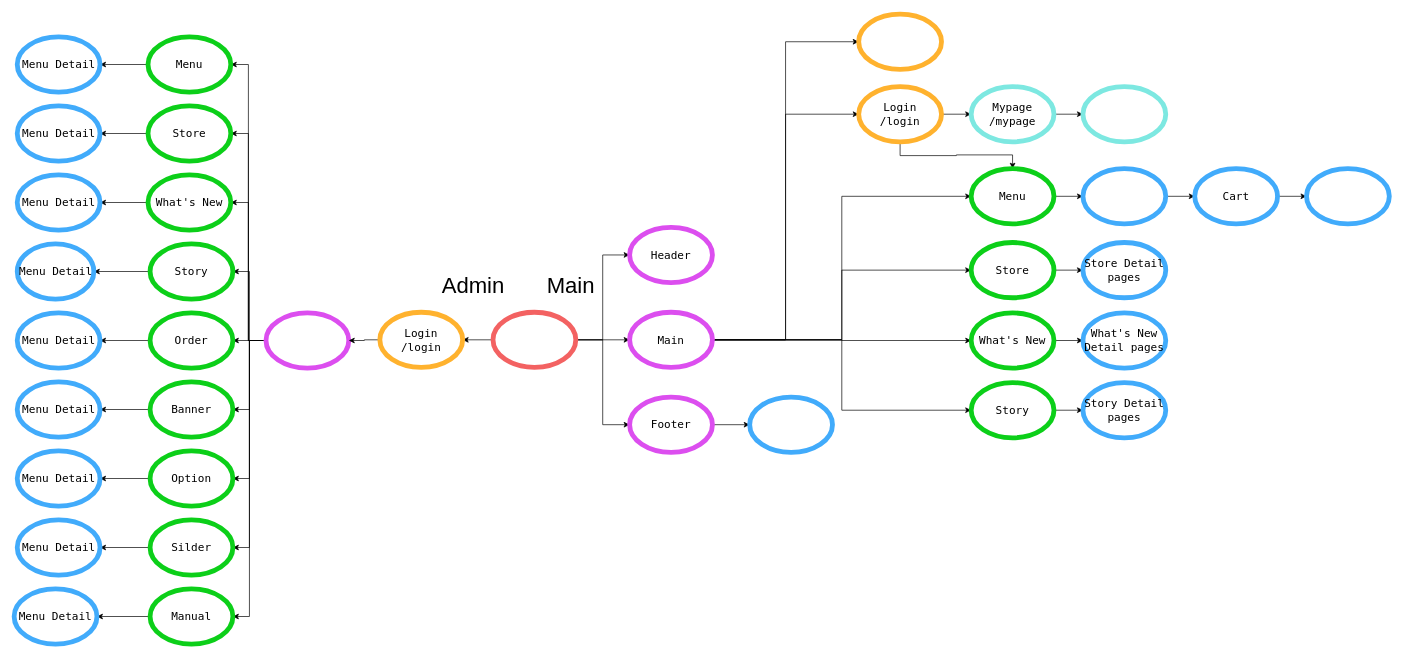
This 1403x658 diagram has some shape labels left out. The box of each missing label's shape, as (x1, y1, x2, y2) in pixels:
Admin Main: (263, 310, 351, 370)
app.js: (490, 309, 578, 369)
FooterLink: (747, 394, 835, 454)
Join /join: (856, 11, 944, 71)
Menu Detail pages: (1080, 166, 1168, 226)
Order Detail: (1080, 84, 1168, 144)
payment: (1304, 166, 1391, 226)
